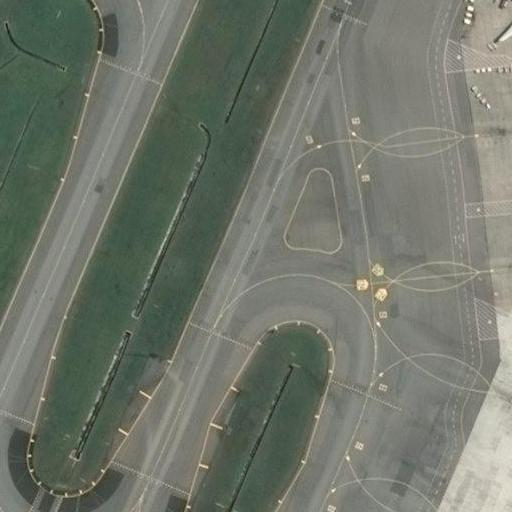Aircraft: (467, 0, 512, 43)
